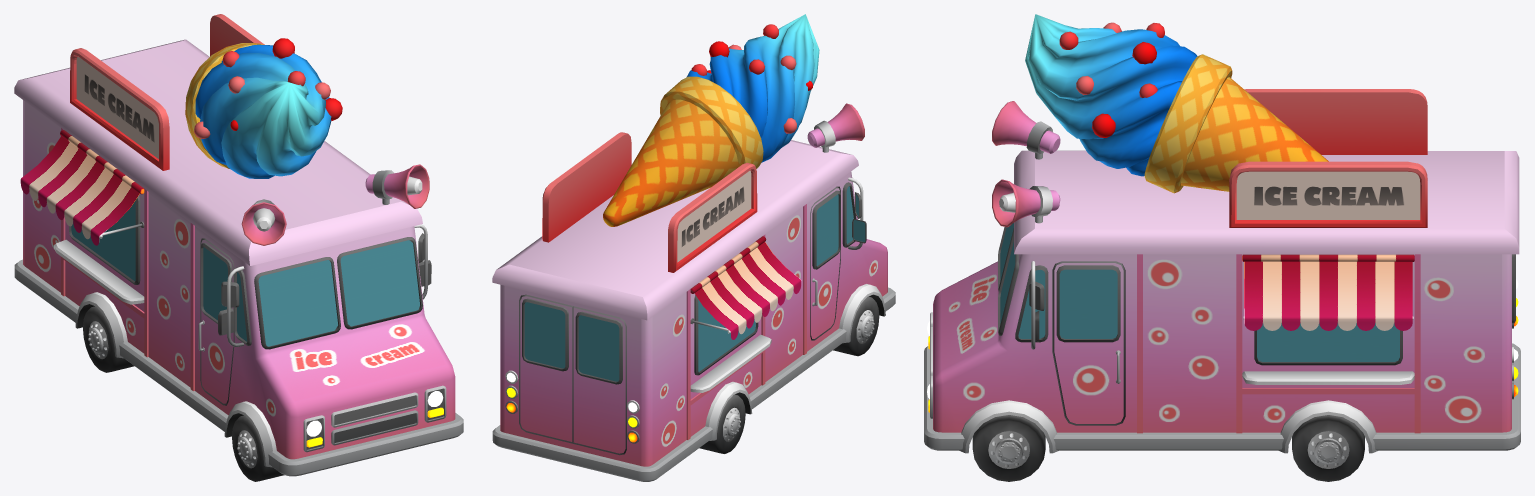
File: ice-cream-truck.glb
3 renders of one model, left to right at view 1: azimuth 30°, elevation 25°; view 2: azimuth 150°, elevation 25°; view 3: azimuth 270°, elevation 25°, orthographic. The views are drawn at different scales.
Parts seen in each view (by area): view 1: Car_Ice_Material #1389_0; view 2: Car_Ice_Material #1389_0; view 3: Car_Ice_Material #1389_0.
Part boxes in pixels (left/top/right/bottom): Car_Ice_Material #1389_0: left=14, top=14, right=463, bottom=481; Car_Ice_Material #1389_0: left=492, top=14, right=895, bottom=481; Car_Ice_Material #1389_0: left=924, top=14, right=1520, bottom=481.
Bounding box in the file's own units: 3.24 × 4.48 × 6.02.
Materials: 1 (1 with a texture image).
